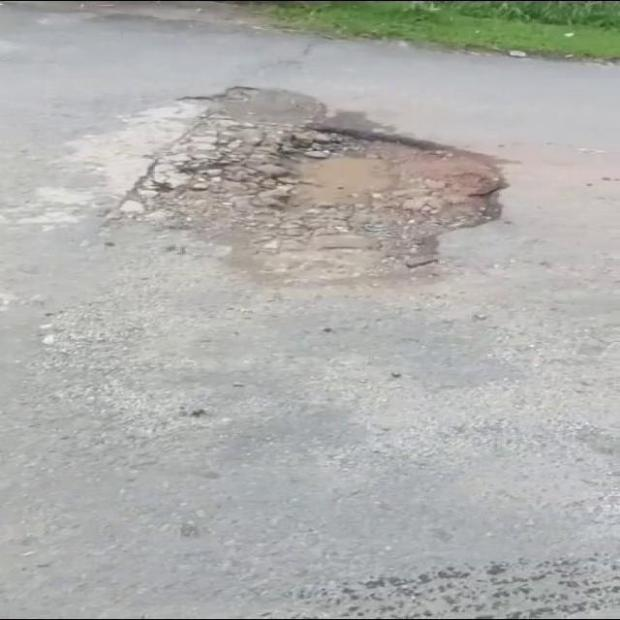lubang: (121, 87, 505, 279)
